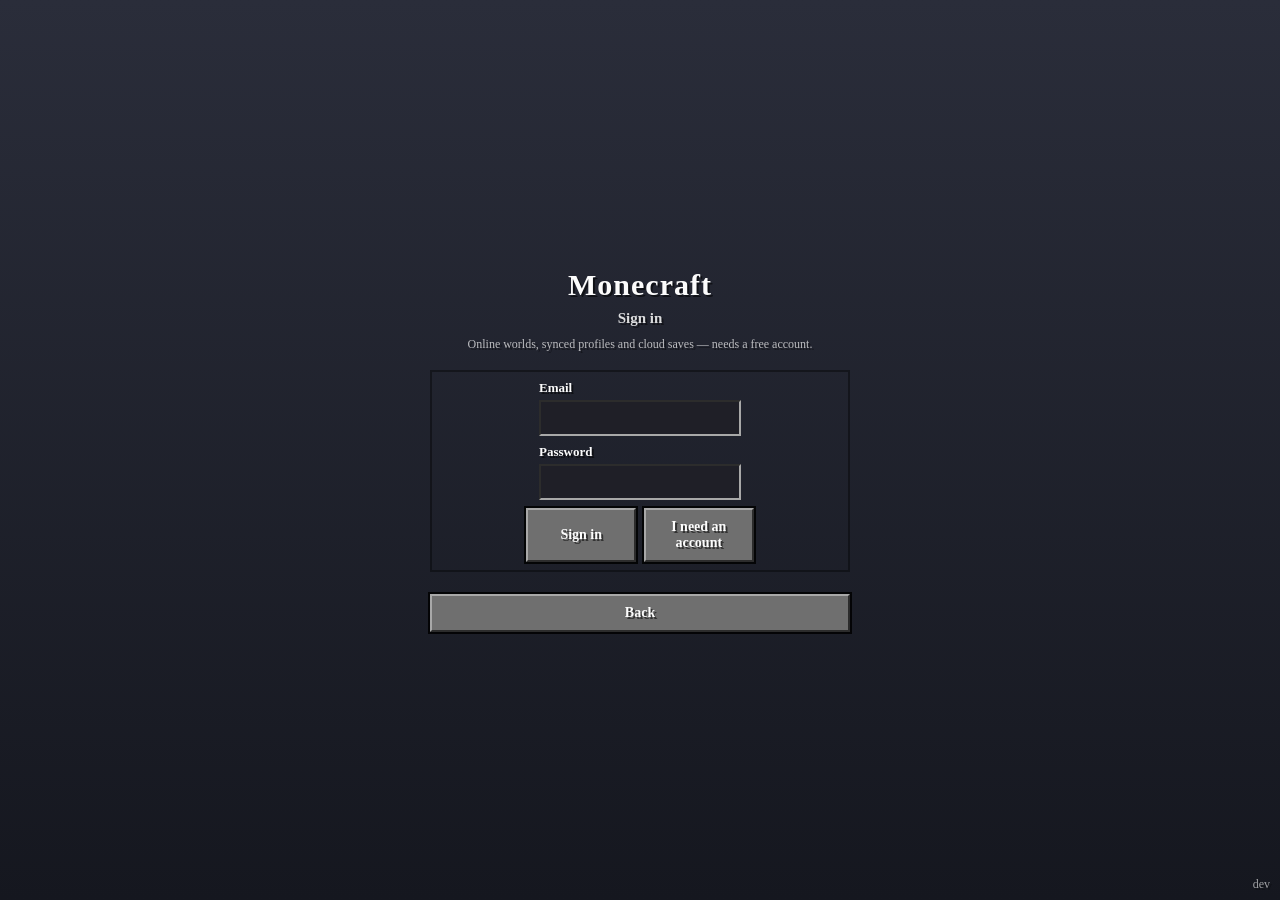
it: AuthScreen › the toggle flips to the create-account form and back
This screenshot has width=1280, height=900.
Click the button "I need an account" at (699, 535), box [644,508,754,562]
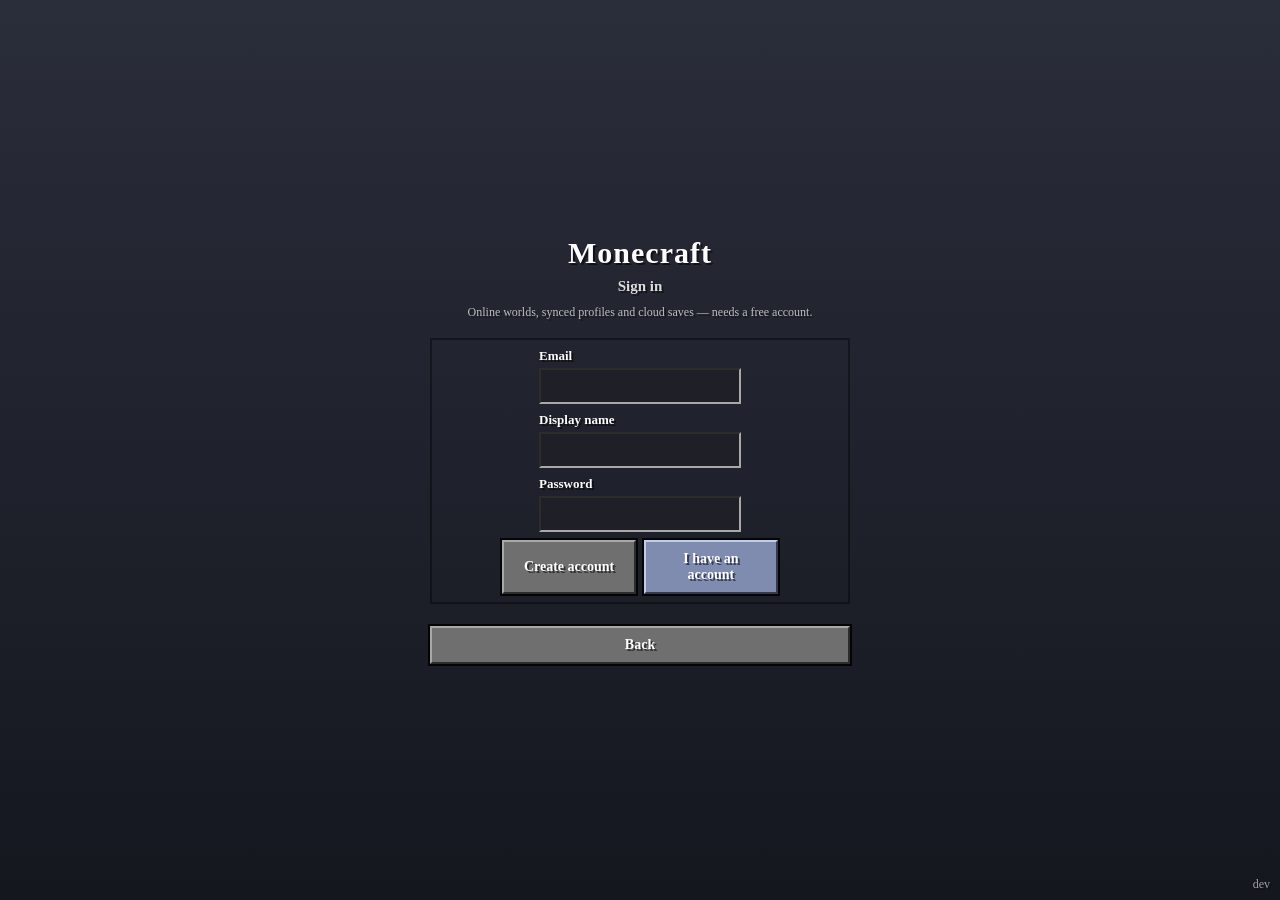
Expected: the field labelled "Display name" is shown, [539,432,741,468]
Expected: the button "Create account" is shown, [502,540,636,594]
Click the button "I have an account" at (711, 567), box [644,540,778,594]
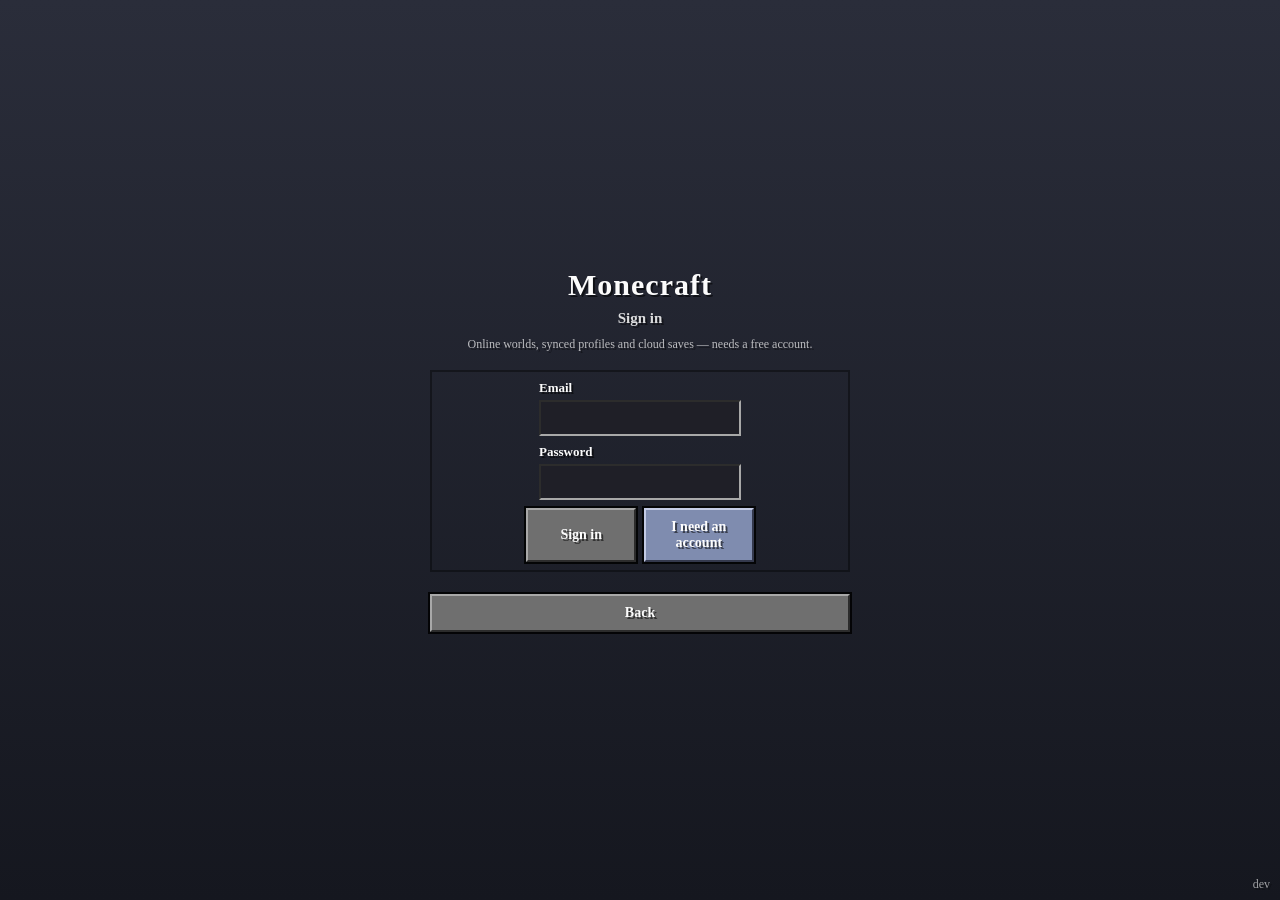
Expected: the label labelled "Display name" is gone
